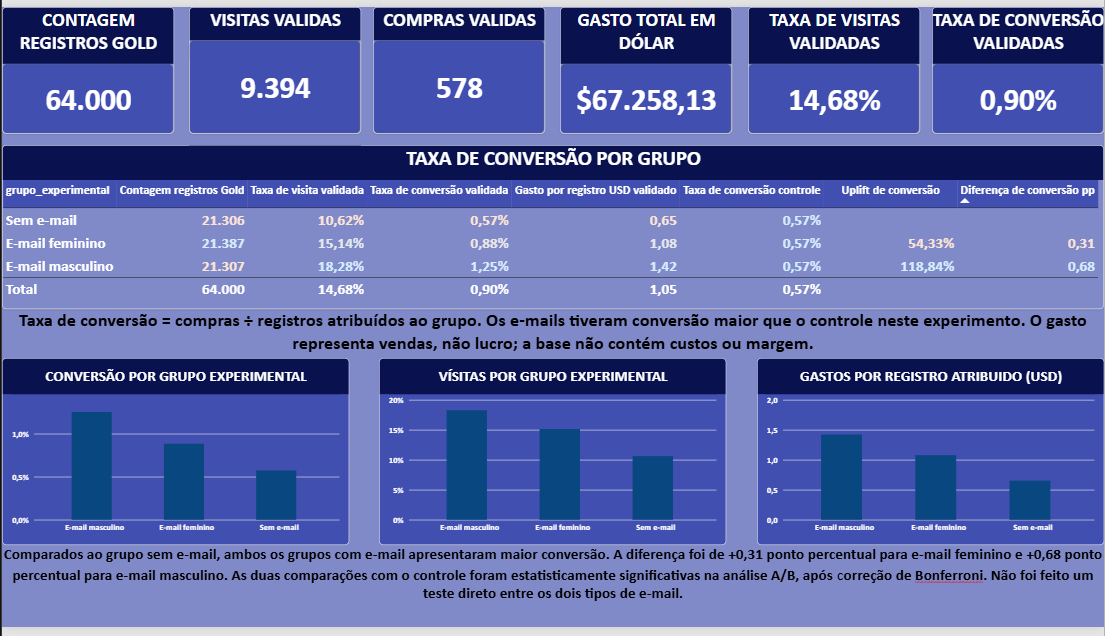

Layout of this report page (visuals, bound fields, positions):
{"tool":"powerbi","page":{"name":"VISÃO EXECUTIVA","canvas":[1920,1080],"ordinal":0},"visuals":[{"type":"tableEx","title":"TAXA DE CONVERSÃO POR GRUPO ","fields":{"Values":["crm dim_grupo_experimental.grupo_experimental","crm fato_resposta_experimental.Contagem registros Gold","crm fato_resposta_experimental.Taxa de visita validada","crm fato_resposta_experimental.Taxa de conversão validada","crm fato_resposta_experimental.Gasto por registro USD validado","crm fato_resposta_experimental.Taxa de conversão controle","crm fato_resposta_experimental.Uplift de conversão","crm fato_resposta_experimental.Diferença de conversão pp"]},"box":[0,240.4,1920,285.7],"z":0},{"type":"cardVisual","title":"VISITAS VALIDAS","fields":{"Data":["crm fato_resposta_experimental.Visitas Validas"]},"box":[325.8,0,299.7,221.3],"z":2000},{"type":"cardVisual","title":"GASTO TOTAL EM DÓLAR ","fields":{"Data":["crm fato_resposta_experimental.Gasto total USD validado"]},"box":[972.2,0,299.7,221.3],"z":3000},{"type":"cardVisual","title":"COMPRAS VALIDAS","fields":{"Data":["crm fato_resposta_experimental.Compras Validas"]},"box":[646.4,0,299.7,221.3],"z":4000},{"type":"cardVisual","title":"TAXA DE VISITAS VALIDADAS ","fields":{"Data":["crm fato_resposta_experimental.Taxa de visita validada"]},"box":[1299.7,0,299.7,221.3],"z":5000},{"type":"cardVisual","title":"TAXA DE CONVERSÃO VALIDADAS ","fields":{"Data":["crm fato_resposta_experimental.Taxa de conversão validada"]},"box":[1620.3,0,299.7,221.3],"z":6000},{"type":"textbox","box":[0,526.2,1920,85.4],"z":7000},{"type":"clusteredColumnChart","title":"CONVERSÃO POR GRUPO EXPERIMENTAL","fields":{"Category":["crm dim_grupo_experimental.grupo_experimental"],"Y":["crm fato_resposta_experimental.Taxa de conversão validada"]},"box":[0,611.5,604.6,325.8],"z":8000},{"type":"clusteredColumnChart","title":"VÍSITAS POR GRUPO EXPERIMENTAL","fields":{"Category":["crm dim_grupo_experimental.grupo_experimental"],"Y":["crm fato_resposta_experimental.Taxa de visita validada"]},"box":[656.8,611.5,604.6,325.8],"z":9000},{"type":"clusteredColumnChart","title":"GASTOS POR REGISTRO ATRIBUIDO (USD)","fields":{"Category":["crm dim_grupo_experimental.grupo_experimental"],"Y":["crm fato_resposta_experimental.Gasto por registro USD validado"]},"box":[1315.4,611.5,604.6,325.8],"z":10000},{"type":"textbox","box":[0,937.4,1920,142.9],"z":12000},{"type":"cardVisual","title":"CONTAGEM REGISTROS GOLD","fields":{"Data":["crm fato_resposta_experimental.Contagem registros Gold"]},"box":[0,0,299.7,221.3],"z":12001}]}

Visuals, with their boxes in screenshot pixels (x1, y1, x2, y2), scaled from the page's 1920x1080 canvas onto the 1109x636 screenshot:
"TAXA DE CONVERSÃO POR GRUPO " tableEx: (left=0, top=142, right=1108, bottom=310)
"VISITAS VALIDAS" cardVisual: (left=188, top=0, right=361, bottom=130)
"GASTO TOTAL EM DÓLAR " cardVisual: (left=562, top=0, right=735, bottom=130)
"COMPRAS VALIDAS" cardVisual: (left=373, top=0, right=546, bottom=130)
"TAXA DE VISITAS VALIDADAS " cardVisual: (left=751, top=0, right=924, bottom=130)
"TAXA DE CONVERSÃO VALIDADAS " cardVisual: (left=936, top=0, right=1108, bottom=130)
textbox: (left=0, top=310, right=1108, bottom=360)
"CONVERSÃO POR GRUPO EXPERIMENTAL" clusteredColumnChart: (left=0, top=360, right=349, bottom=552)
"VÍSITAS POR GRUPO EXPERIMENTAL" clusteredColumnChart: (left=379, top=360, right=729, bottom=552)
"GASTOS POR REGISTRO ATRIBUIDO (USD)" clusteredColumnChart: (left=760, top=360, right=1108, bottom=552)
textbox: (left=0, top=552, right=1108, bottom=635)
"CONTAGEM REGISTROS GOLD" cardVisual: (left=0, top=0, right=173, bottom=130)
